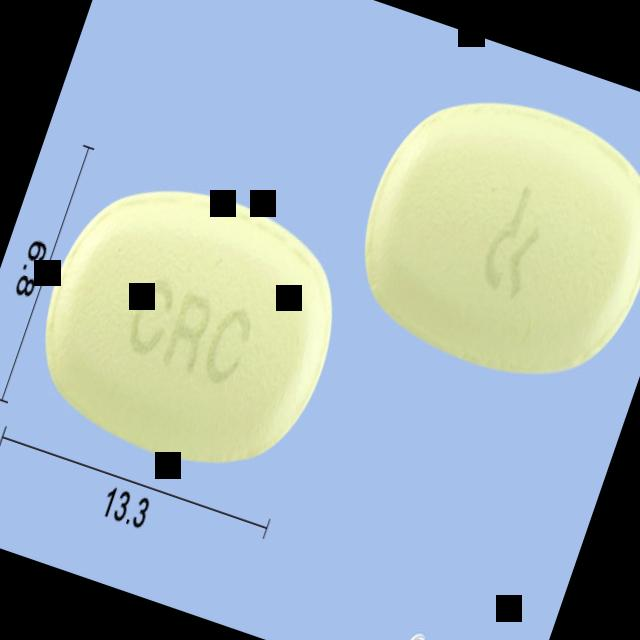Celltrion Clarithromycin - 500mg: (12, 152, 365, 498), (332, 65, 640, 408)
